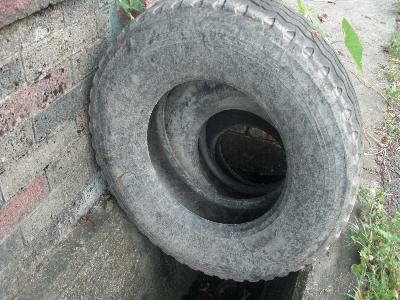tire: (87, 1, 367, 282)
